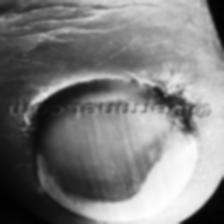Toxin: (123, 116, 199, 211), (122, 70, 202, 104)
